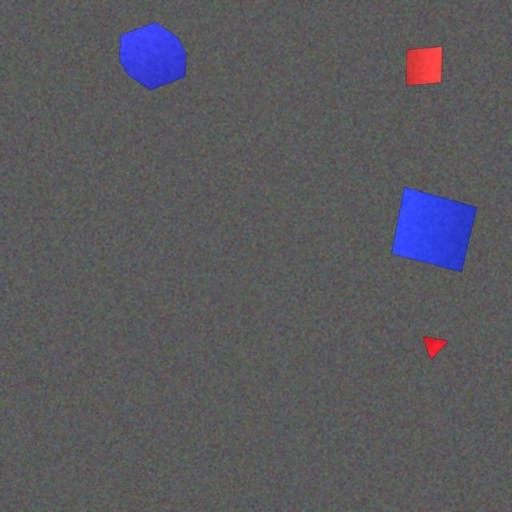BLUE_SQUARE: (390, 186, 478, 273)
RED_SQUARE: (406, 46, 443, 86)
